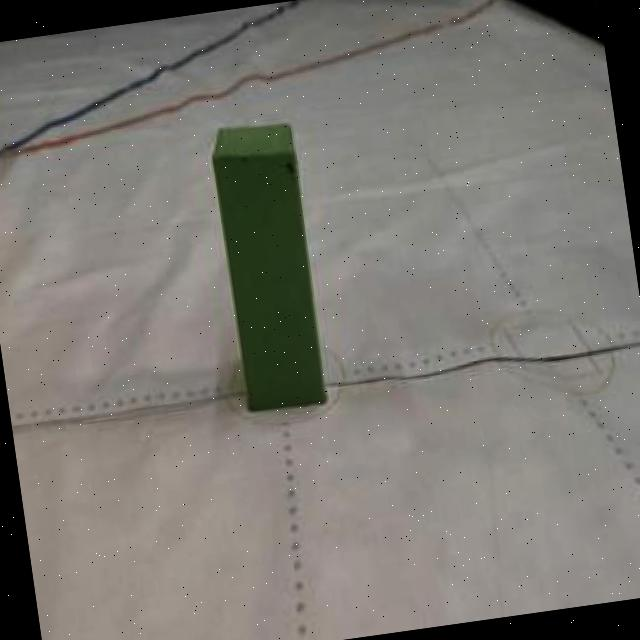greenbox: (208, 121, 333, 418)
